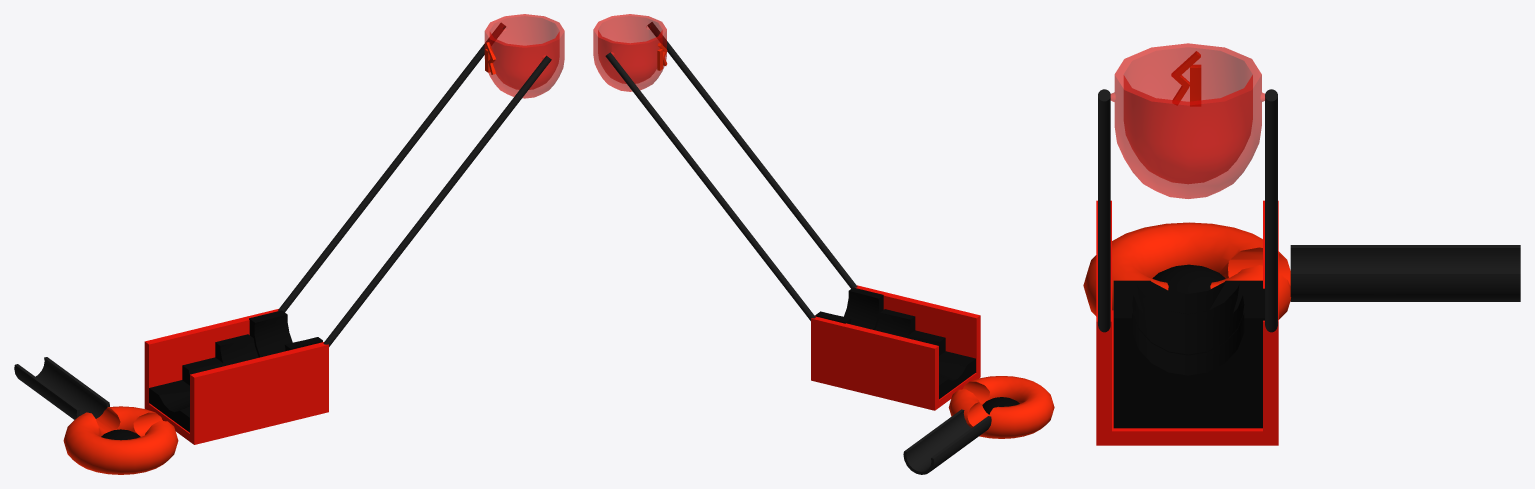
The model's file is BridgeToStraightTube.FBX.
The picture shows the model from 3 angles, left to right: view 1: azimuth 30°, elevation 25°; view 2: azimuth 150°, elevation 25°; view 3: azimuth 270°, elevation 25°; orthographic projection. The views are drawn at different scales.
Parts seen in each view (by area): view 1: C-Ext001, Torus001, Capsule001, Cylinder002, Box001, Tube001; view 2: C-Ext001, Cylinder002, Torus001, Capsule001, Box001, Tube001; view 3: Box001, Capsule001, Tube001, Torus001, C-Ext001, Cylinder002, OilTank001.
Part boxes in pixels (x1,y1,x2,y2): C-Ext001: (144,309,328,444); Torus001: (63,406,178,474); Capsule001: (484,14,564,98); Cylinder002: (278,23,551,346); Box001: (149,310,322,432); Tube001: (14,357,109,419); C-Ext001: (811,285,980,410); Cylinder002: (605,22,857,320); Torus001: (948,376,1054,438); Capsule001: (593,14,667,91); Box001: (815,287,975,399); Tube001: (903,409,991,474); Box001: (1113,280,1264,428); Capsule001: (1110,43,1265,198); Tube001: (1290,245,1520,301); Torus001: (1083,222,1290,319); C-Ext001: (1096,200,1278,445); Cylinder002: (1098,89,1277,332); OilTank001: (1152,264,1225,293).
Size of the model in its own units: 367 by 235 by 155.
